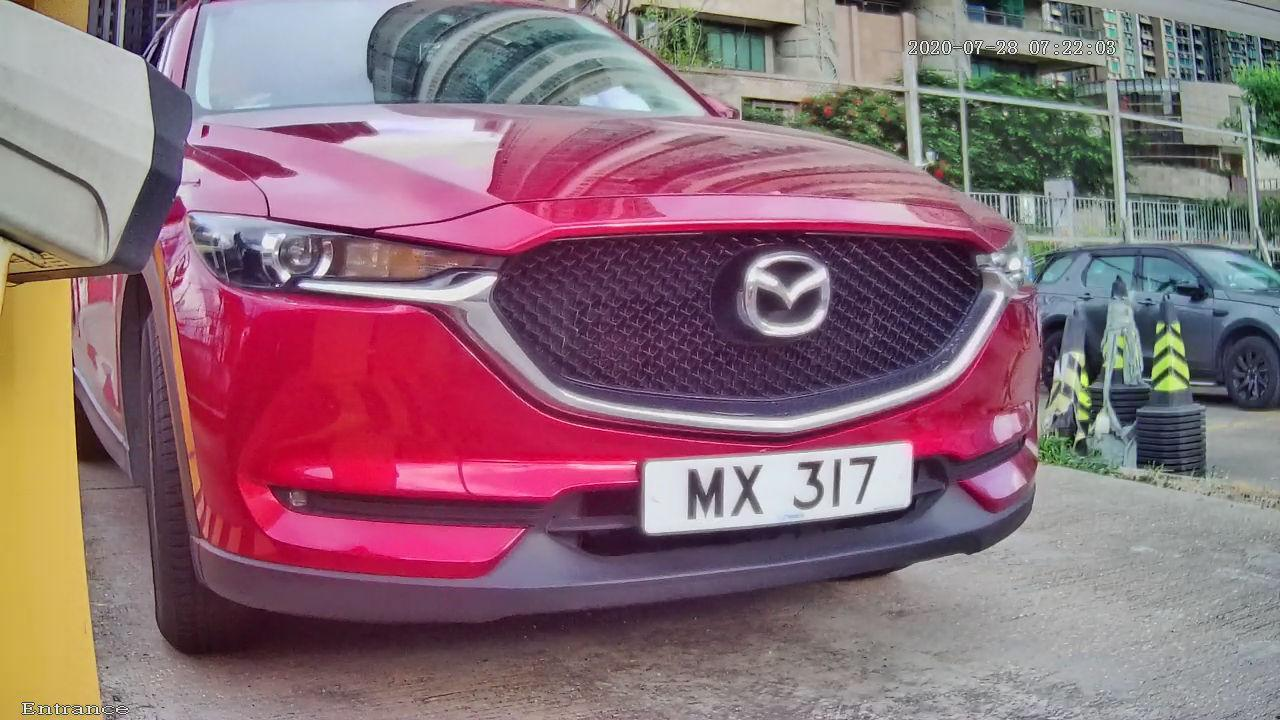privatecar: (72, 1, 1059, 643)
